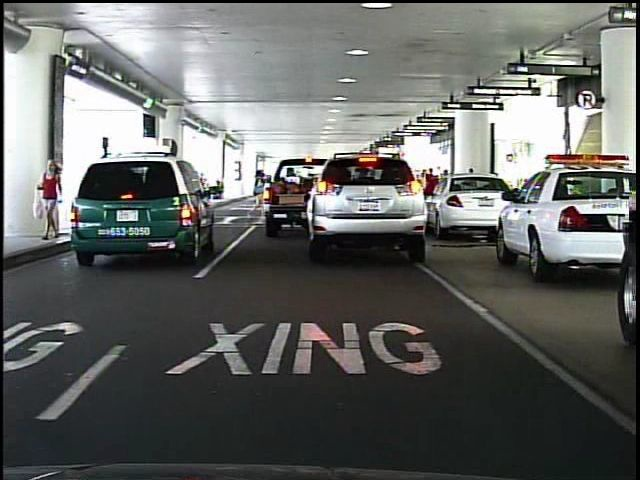person: (42, 153, 67, 242), (247, 168, 271, 224)
